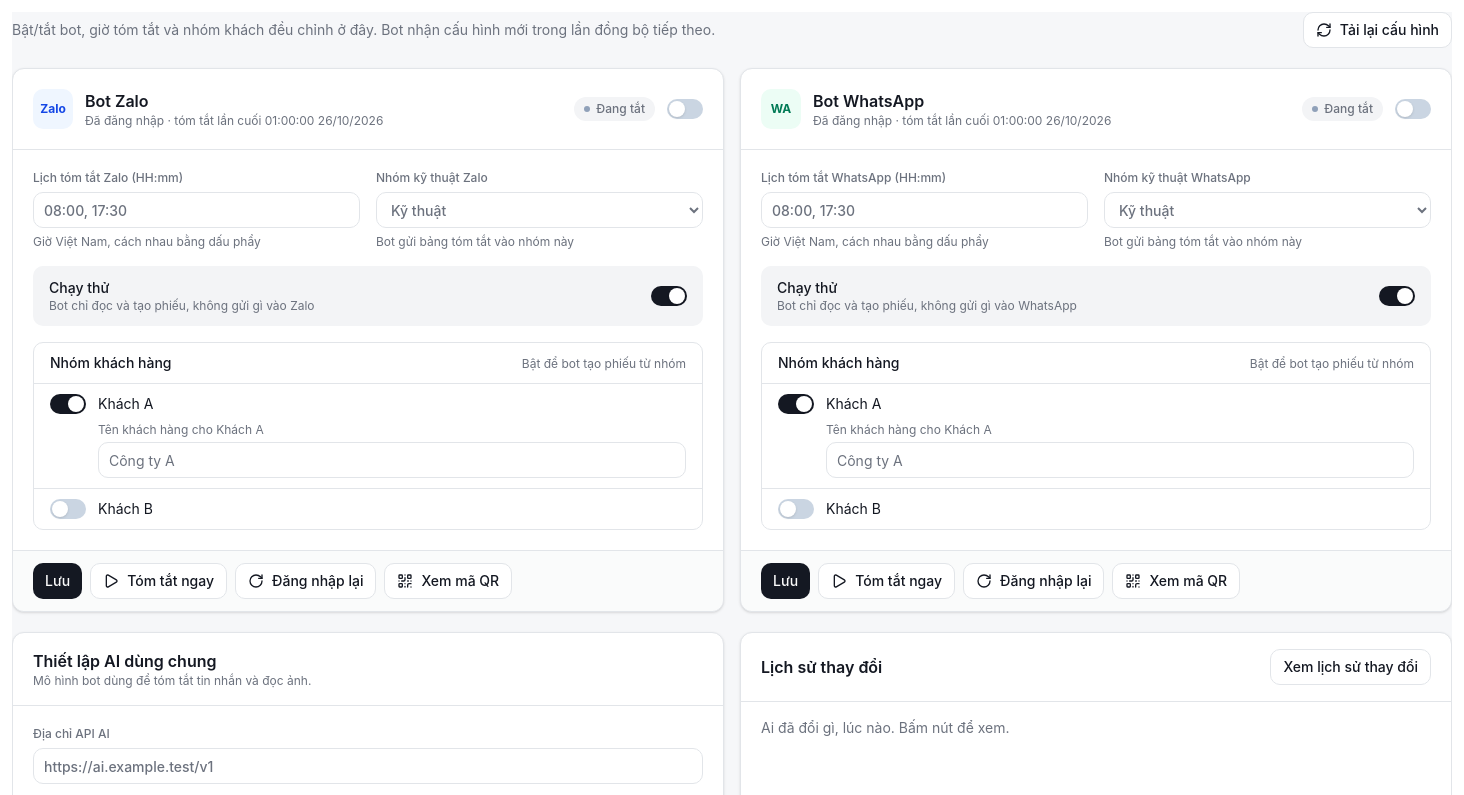
explains waiting for the bot when QR is absent
Expected: the element named "Kênh Zalo" is shown, [12,68,724,612]
Click the button named "Đăng nhập lại Zalo".
click(306, 581)  # box [235,563,376,599]
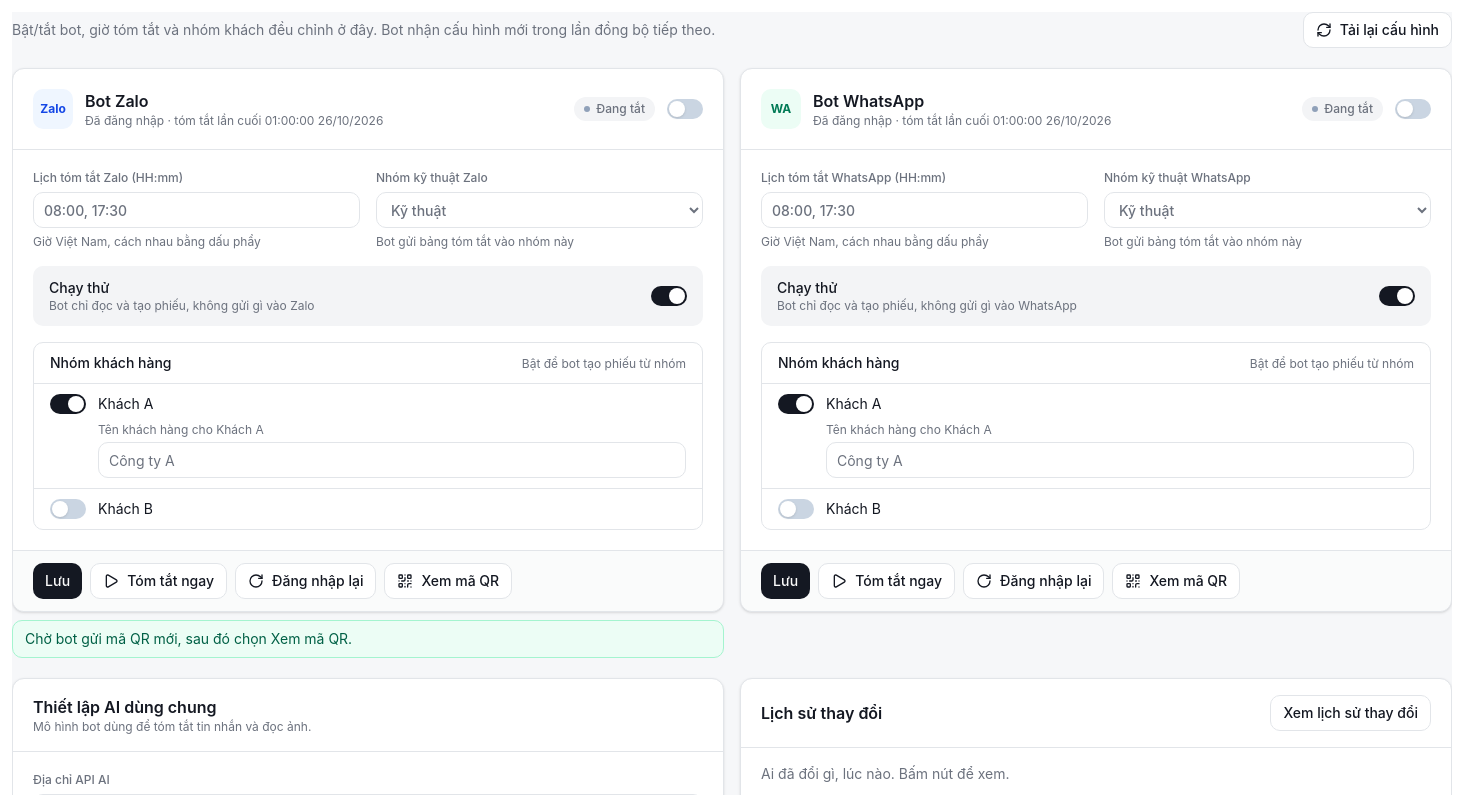
Expected: the text "Chờ bot gửi mã QR mới, sau đó chọn Xem mã QR." is shown, [12,620,724,658]
